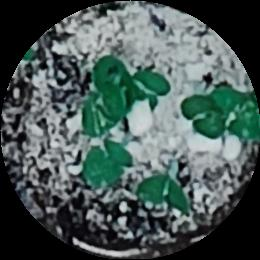Basil: (216, 87, 260, 140), (95, 54, 137, 103), (84, 142, 127, 188), (141, 173, 192, 209), (81, 91, 120, 132), (186, 97, 223, 137), (131, 72, 169, 95)
